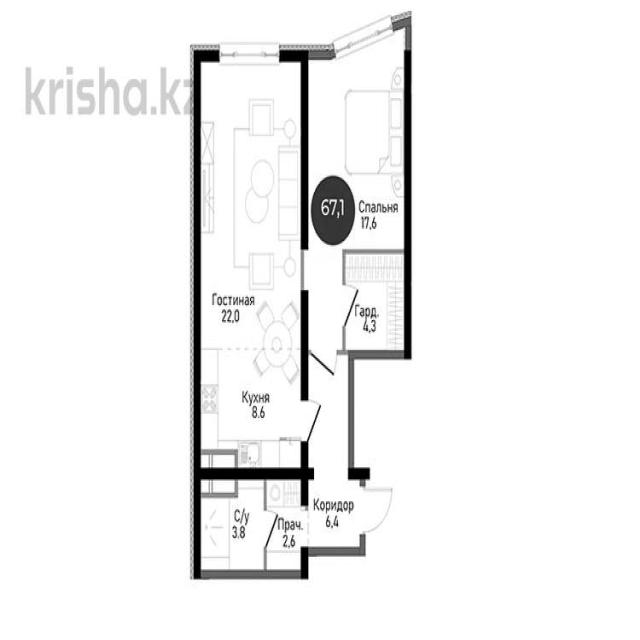bathroom: (199, 484, 264, 571)
hallway: (306, 476, 364, 544)
living_room: (309, 49, 407, 249)
other: (344, 258, 409, 346), (267, 481, 305, 574)
studio: (199, 56, 301, 475)
